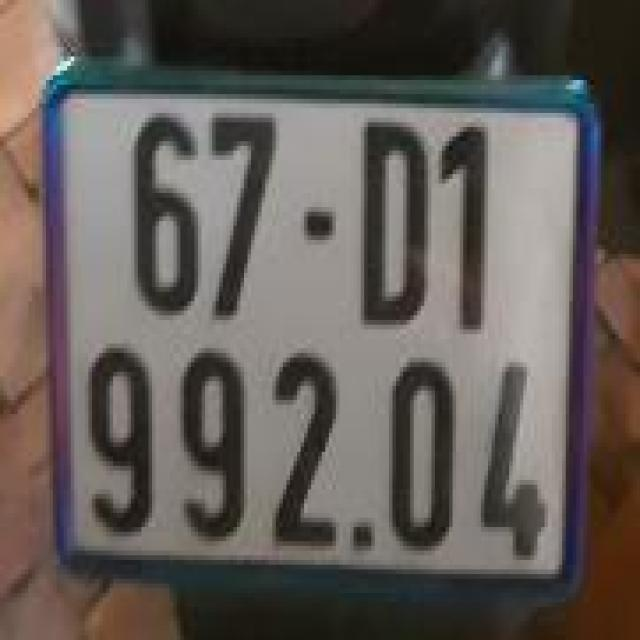0: (375, 346, 467, 562)
1: (442, 115, 502, 346)
2: (256, 338, 356, 550)
4: (476, 341, 560, 577)
6: (129, 97, 207, 327)
7: (212, 82, 279, 342)
9: (80, 313, 164, 539), (171, 334, 253, 551)
D: (348, 75, 437, 339)
